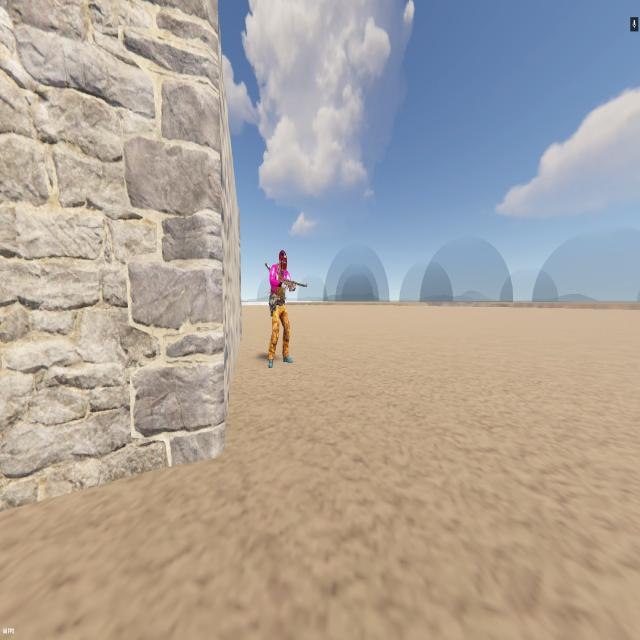Player: (266, 245, 294, 370)
